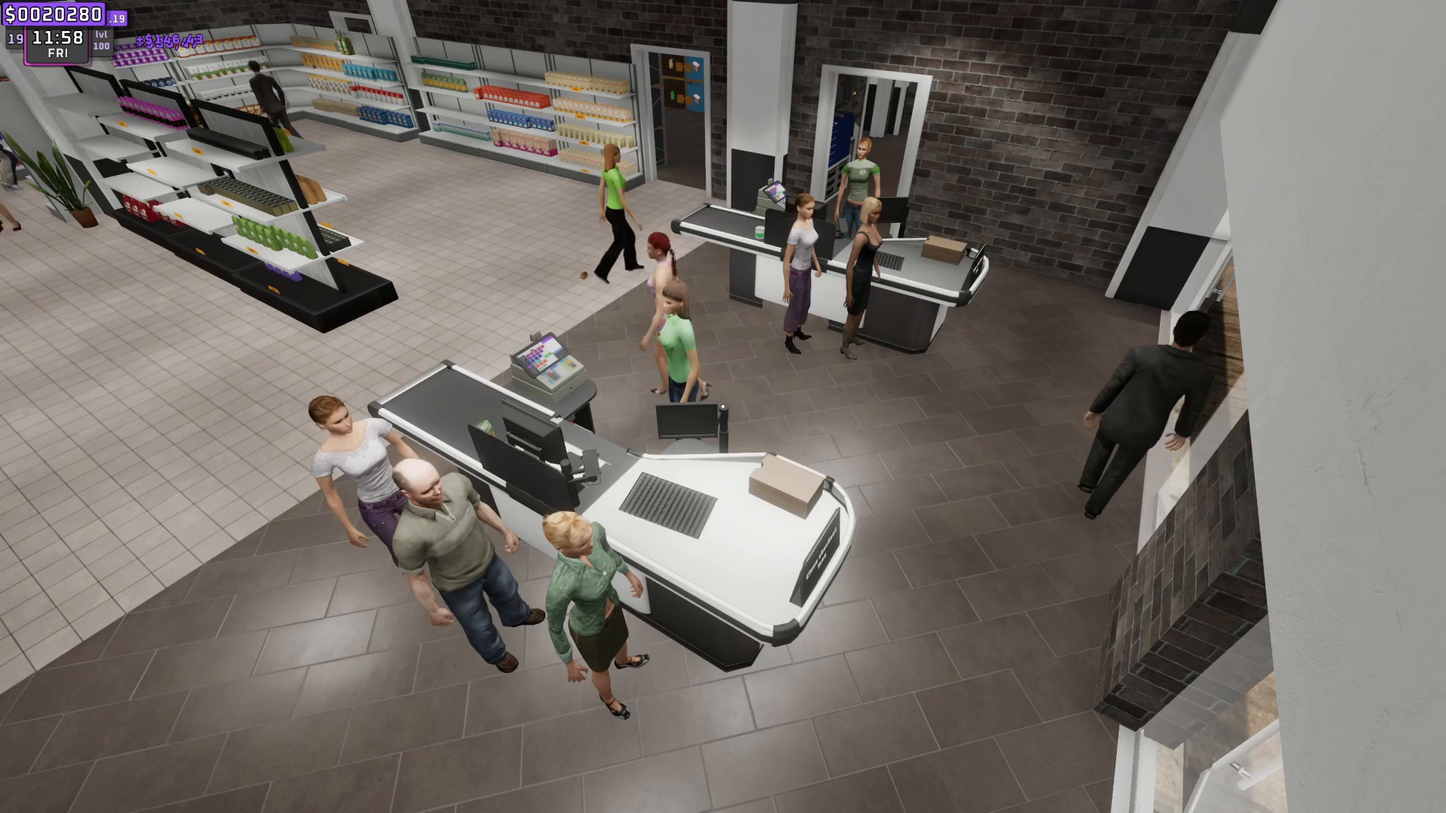Client: (399, 469, 538, 666), (545, 519, 653, 726), (309, 394, 401, 553), (600, 150, 644, 281), (852, 205, 885, 354), (791, 200, 820, 349), (652, 238, 676, 349)
Employee: (665, 281, 699, 406), (833, 136, 878, 205)
